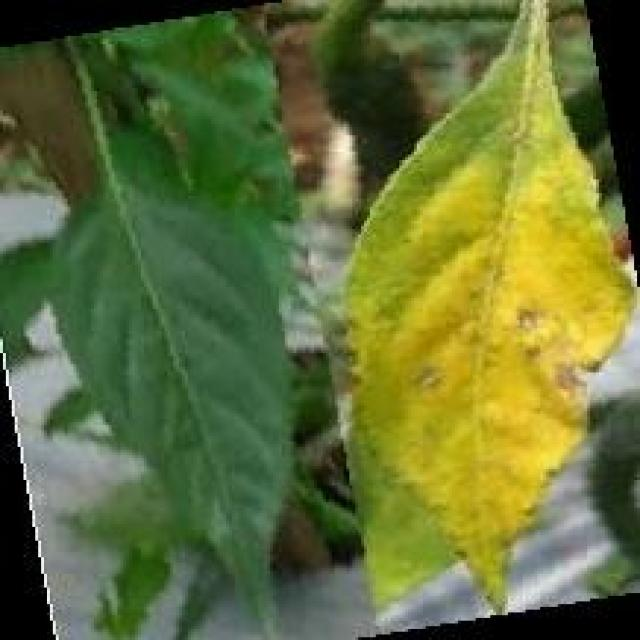Moko: (353, 100, 615, 560)
